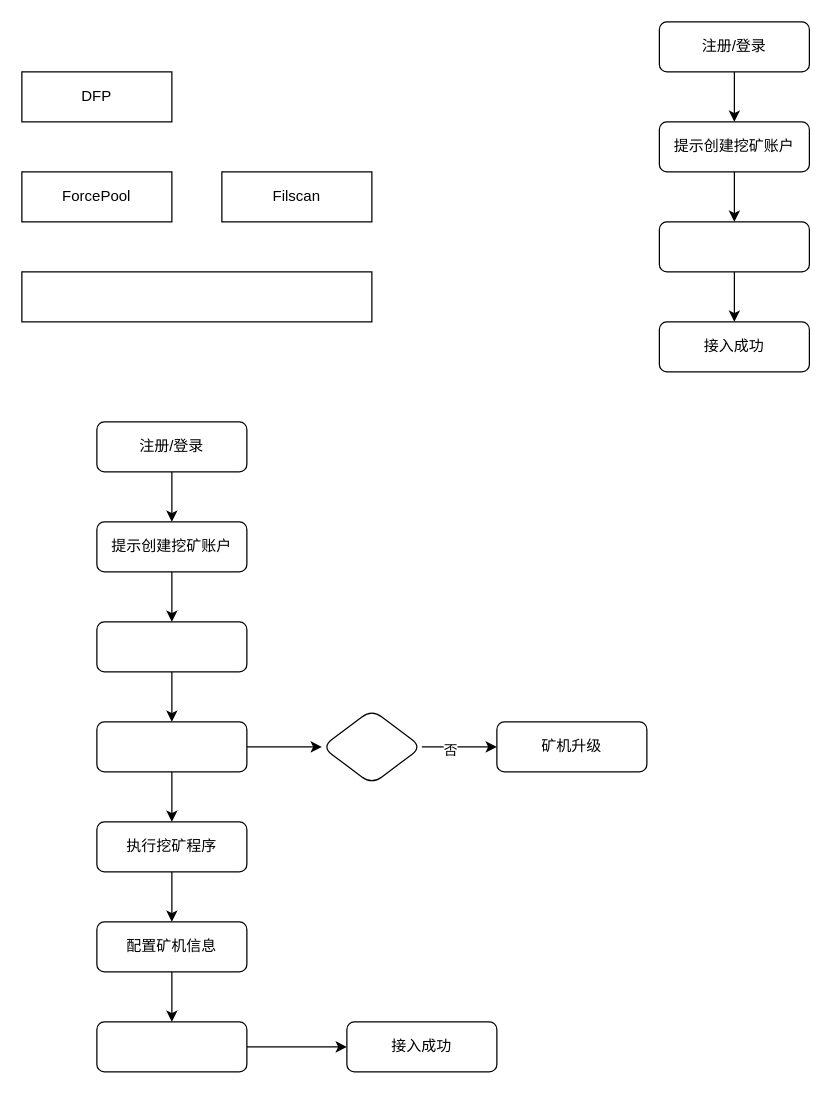
Image size: 831x1094. Some labels were removed from this diagram. The shapes that lost their labels are listed below. From the top down, each one's centre as x and y in pixels, then its label:
At pixel 733 246: "配置矿机".
At pixel 196 296: "Force通证".
At pixel 171 646: "下载工具（测评软件、挖矿程序）".
At pixel 171 746: "矿机测评".
At pixel 371 746: "是否达标".
At pixel 171 1046: "启动挖矿".
